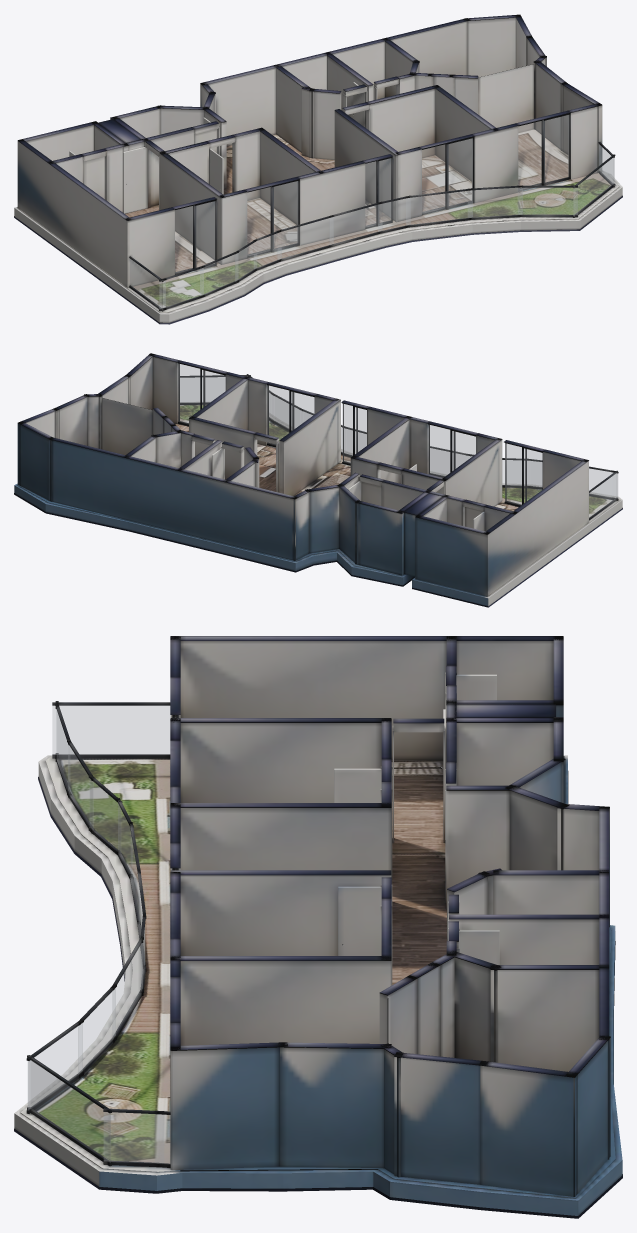
The picture shows the model from 3 angles, top to bottom: view 1: azimuth 30°, elevation 25°; view 2: azimuth 150°, elevation 25°; view 3: azimuth 270°, elevation 25°; orthographic projection. The views are drawn at different scales.
Visible parts, largest first — view 1: plan, glass4_m, glass3_m, glass1_m, glass0_m, railg5_m, railg3_m, railg8_m, railg4_m, railg7_m, glass2_m, railg12_m (+6 smaller); view 2: plan, glass0_m, glass4_m, glass3_m, glass1_m, glass2_m, railg2_m, railg14_m, railg8_m, railg12_m, railg10_m, railg4_m; view 3: plan, railg14_m, railg2_m, railg1_m, railg3_m, railg4_m, railg10_m, railg5_m, railg11_m, railg0_m.
Boxes of the visible parts, x1,y1,x2,y2 form: plan: (14,14,622,324); glass4_m: (518,115,568,185); glass3_m: (422,138,472,212); glass1_m: (247,181,297,254); glass0_m: (175,201,214,272); railg5_m: (406,190,472,225); railg3_m: (518,187,577,214); railg8_m: (278,217,333,259); railg4_m: (468,188,522,217); railg7_m: (329,204,382,244); glass2_m: (365,158,390,226); railg12_m: (161,268,203,308); plan: (14,353,622,607); glass0_m: (505,443,542,504); glass4_m: (178,364,225,423); glass3_m: (267,385,314,445); glass1_m: (429,425,475,477); glass2_m: (342,404,366,463); railg2_m: (180,377,224,402); railg14_m: (589,474,616,517); railg8_m: (430,448,470,475); railg12_m: (589,468,612,496); railg10_m: (502,460,527,485); railg4_m: (275,397,299,428); plan: (14,636,622,1218); railg14_m: (52,706,170,754); railg2_m: (28,1060,110,1162); railg1_m: (104,1112,163,1163); railg3_m: (28,1023,82,1109); railg4_m: (78,988,115,1074); railg10_m: (90,779,120,852); railg5_m: (112,943,142,1038); railg11_m: (68,745,93,829); railg0_m: (155,1114,170,1163).
Size of the model in its own units: 18.03 by 2.62 by 10.41.
2 materials, 1 textured.
